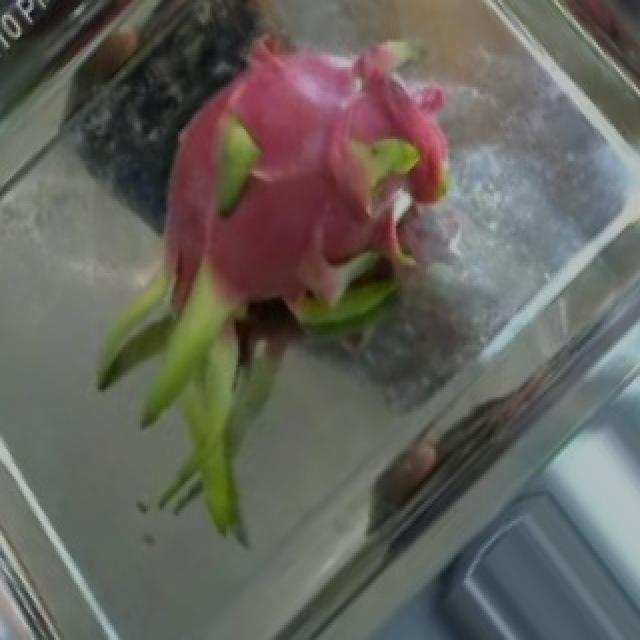fruit: (100, 2, 524, 436)
